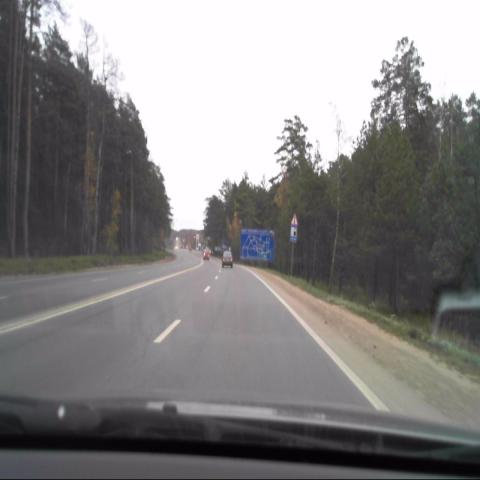1_8: (291, 211, 299, 224)
7_3: (290, 222, 298, 243)
